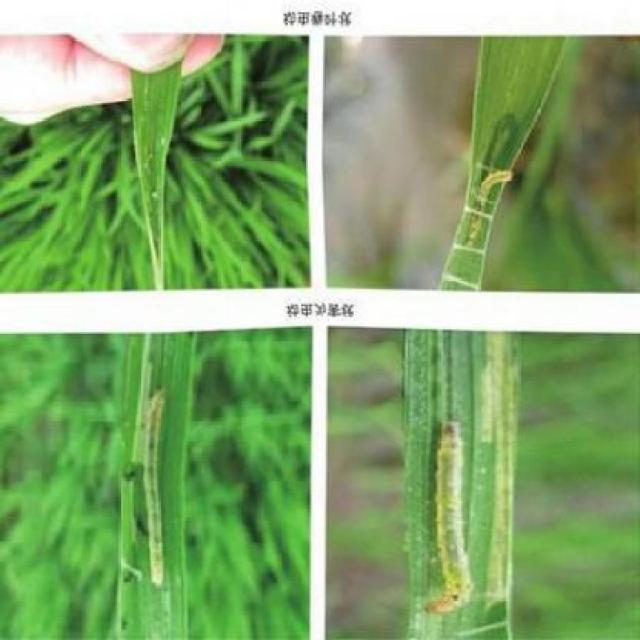leaf-folder: (429, 397, 498, 640), (131, 375, 184, 602), (466, 157, 526, 258)
